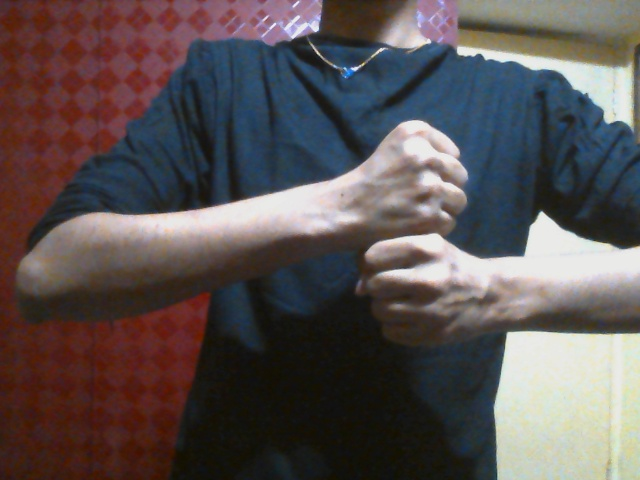G: (354, 119, 482, 347)
